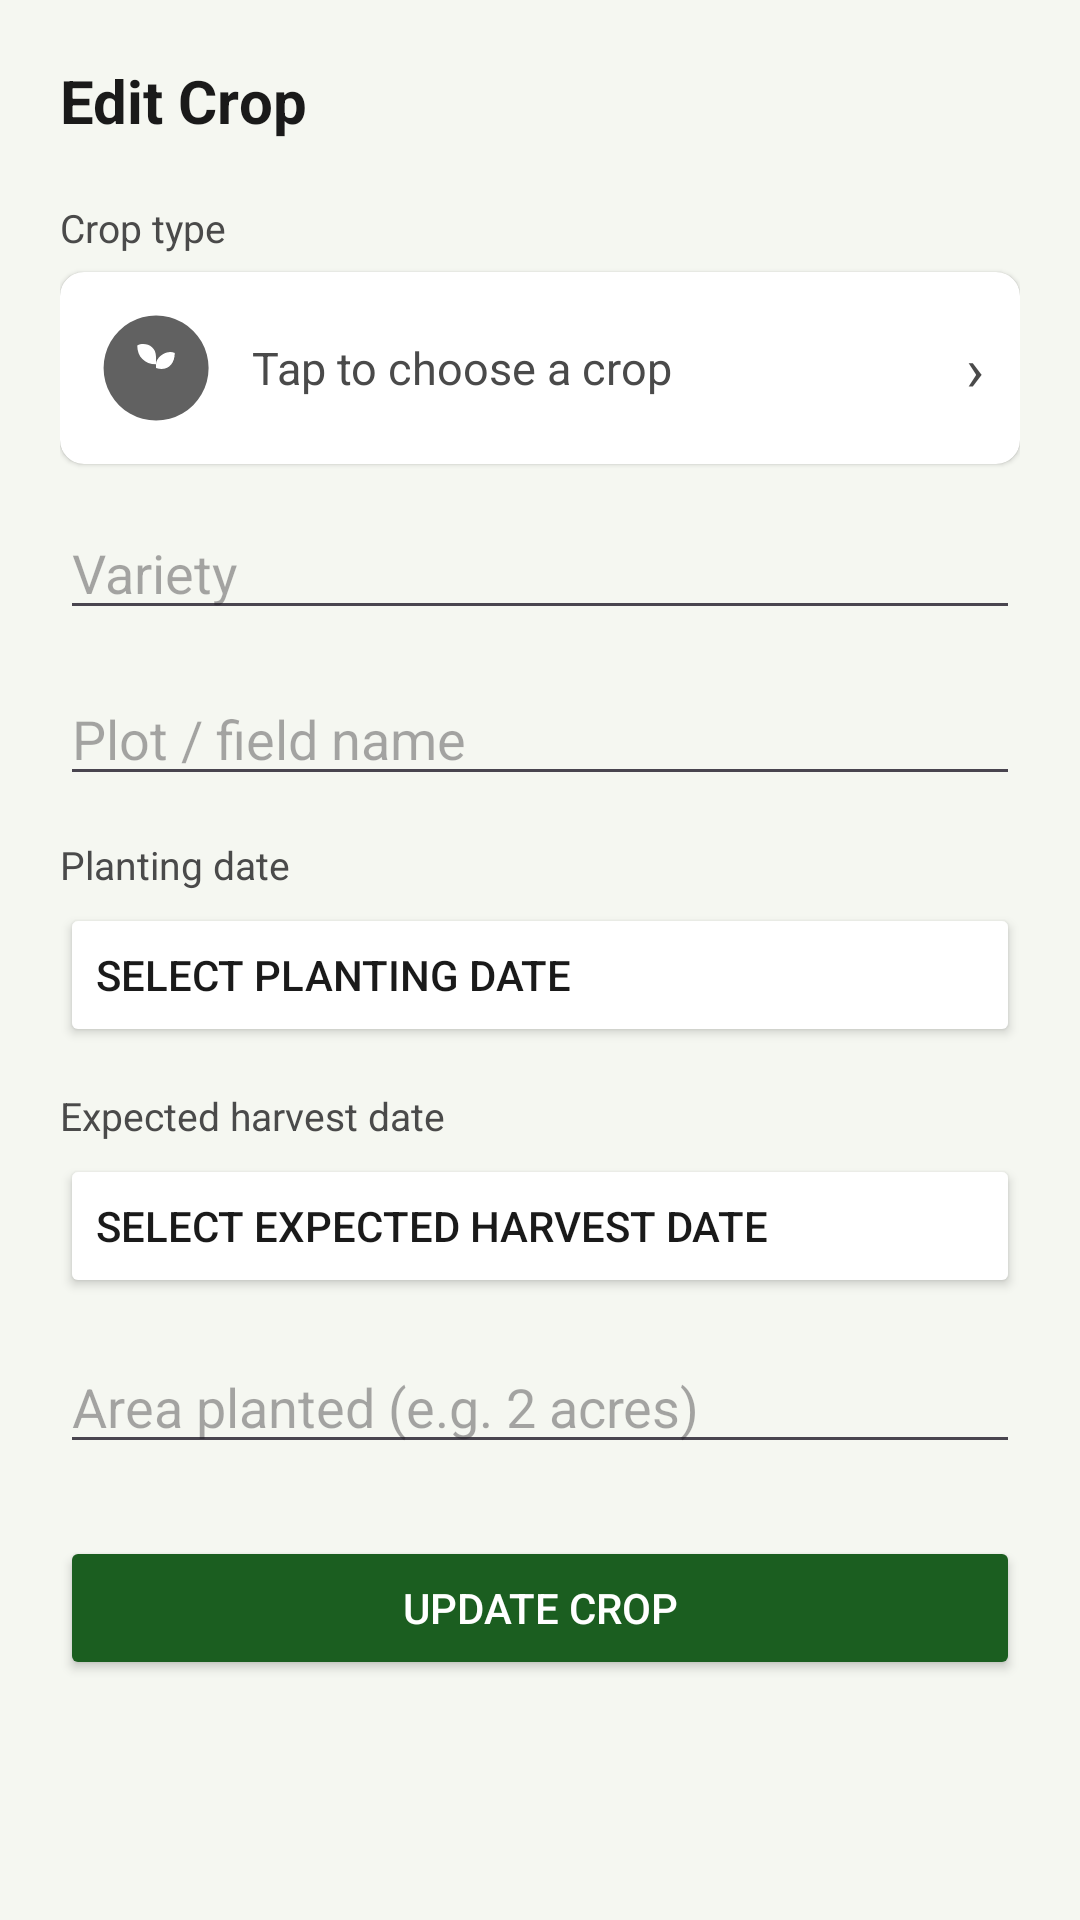

Icon click points for this 1080x1920 phone screenshot, format (x,y):
Selected crop image: (156,368)
